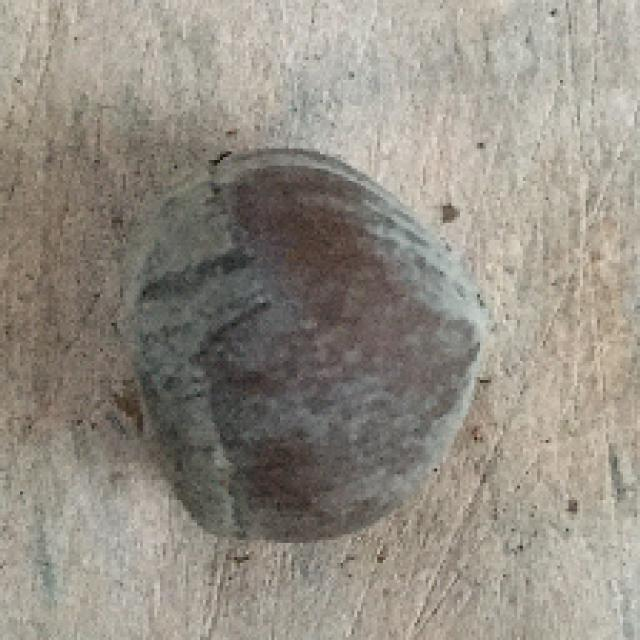DamagedHazelnut: (117, 152, 492, 540)
